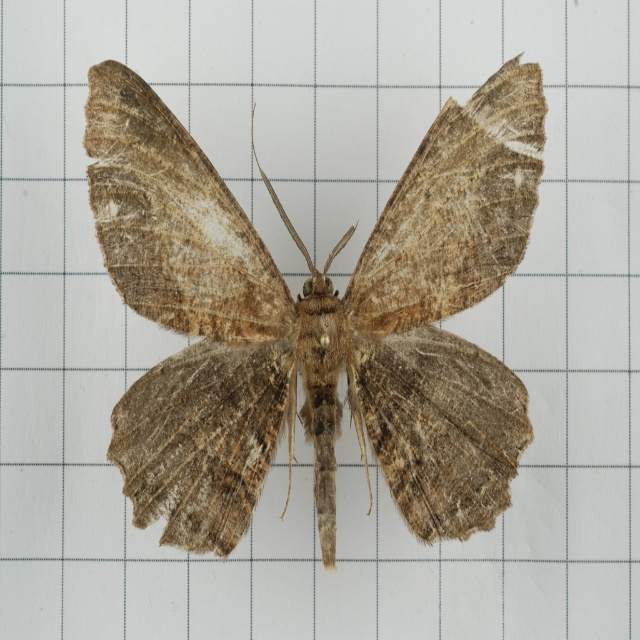Moths and butterflies: (78, 44, 549, 571)
